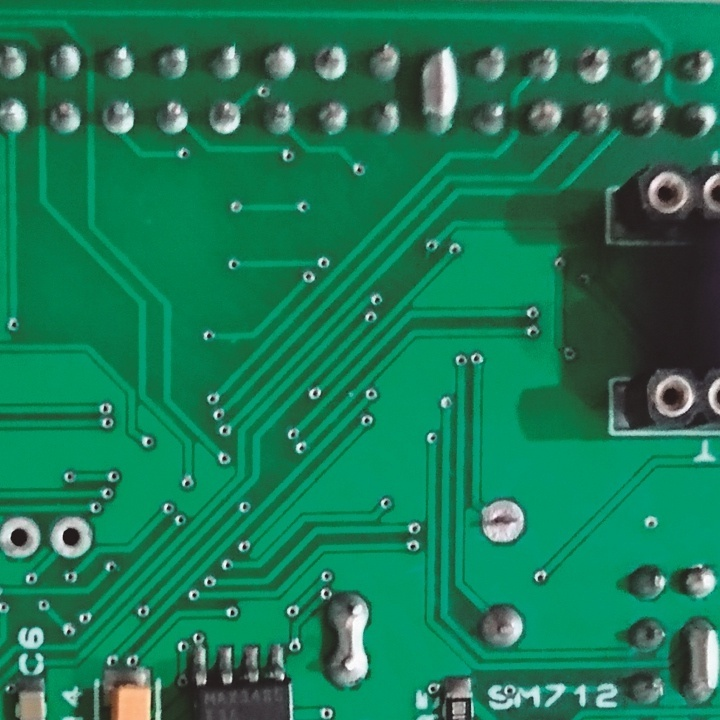F: (478, 496, 532, 549), (1, 513, 47, 565), (47, 515, 95, 563), (573, 40, 615, 87), (310, 40, 351, 86), (204, 98, 246, 137), (98, 100, 140, 135)
P: (322, 589, 375, 692), (415, 40, 462, 140), (677, 613, 720, 709)
